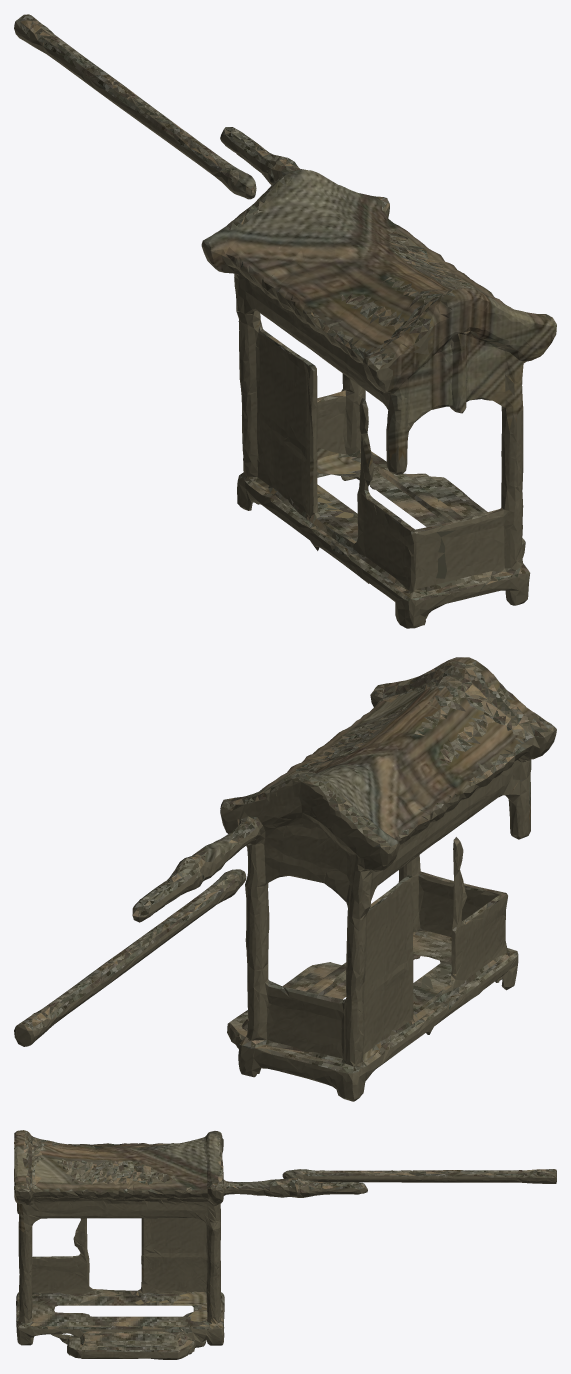
3 views of the same model, one above another, from view 1: azimuth 30°, elevation 25°; view 2: azimuth 150°, elevation 25°; view 3: azimuth 270°, elevation 25° (orthographic). The views are drawn at different scales.
Parts seen in each view (by area): view 1: wall, painted, roof; view 2: wall, roof, painted; view 3: wall, roof, painted.
Part boxes in pixels (x1,y1,x2,y2): wall: [14, 22, 530, 628]; painted: [203, 169, 556, 592]; roof: [15, 14, 556, 624]; wall: [14, 670, 556, 1101]; roof: [17, 657, 556, 1099]; painted: [200, 657, 539, 1061]; wall: [15, 1133, 556, 1359]; roof: [16, 1130, 556, 1352]; painted: [14, 1130, 302, 1328].
Bounding box in the file's own units: 3.13 × 4.65 × 11.75.
Materials: 3 (3 with a texture image).
